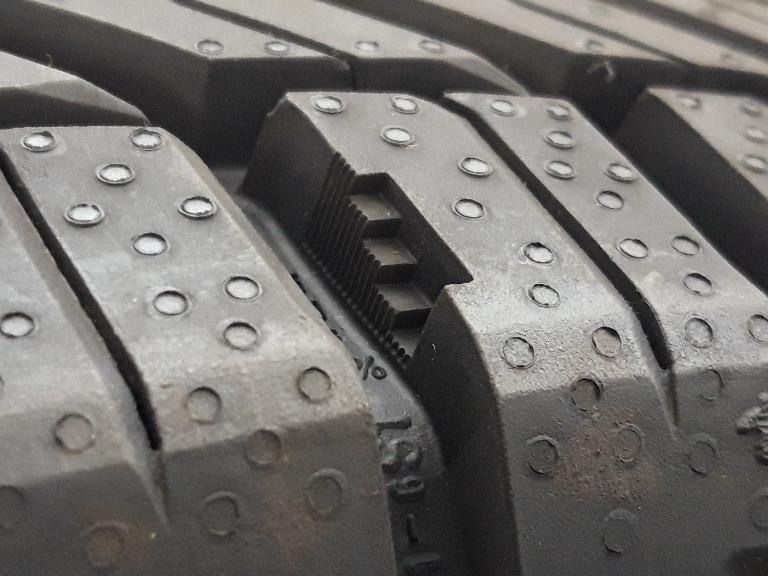temoin:100: (294, 140, 490, 383)
